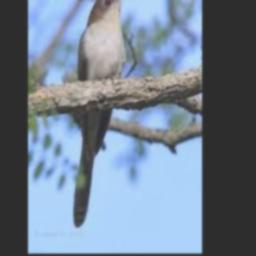Cuckoo: (72, 0, 133, 227)
